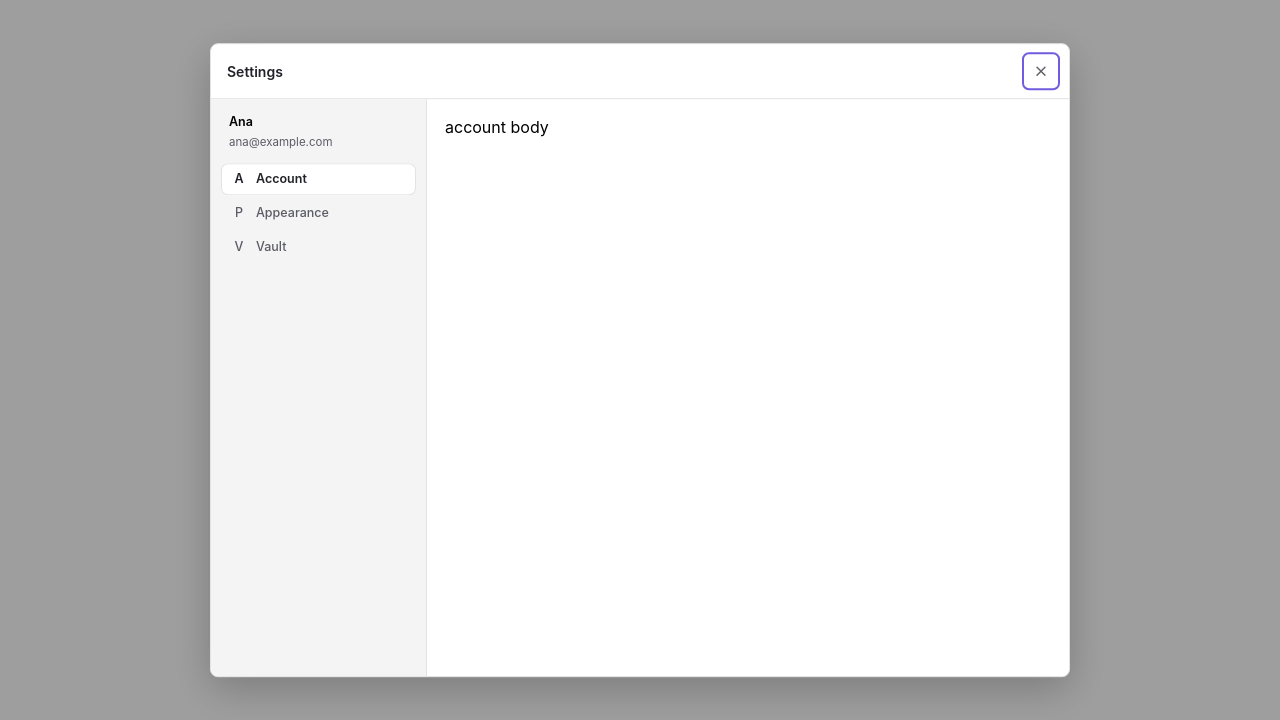
Test case: settings, desktop › shows one section at a time, wired to its tab
Expected: the text "appearance body" is not shown
Click the tab "P Appearance" at (318, 213), box left=221, top=197, right=416, bottom=229
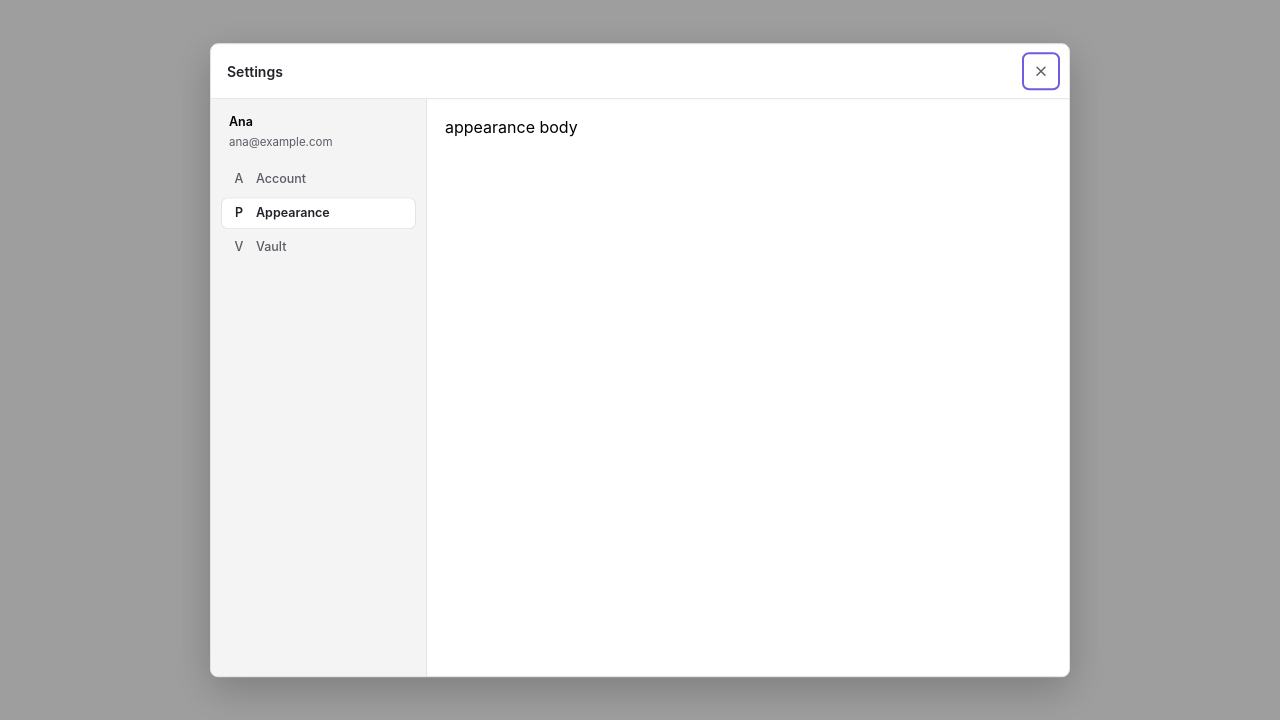
Result: the text "appearance body" is shown at left=445, top=117, right=578, bottom=137
Result: the text "account body" is gone
